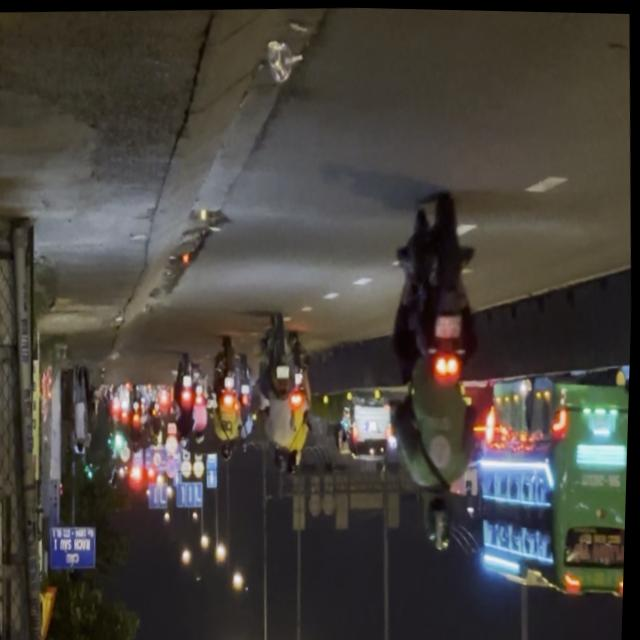helmet: (425, 490, 457, 548)
licenseplate: (382, 194, 497, 551)
nohelmet: (435, 311, 464, 336)
